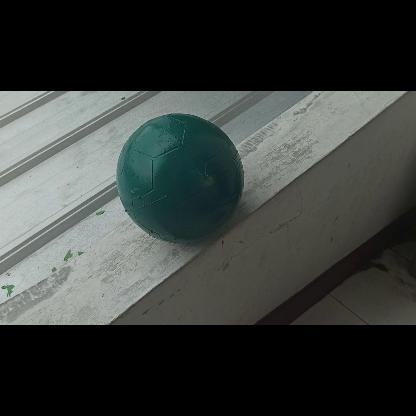green_ball: (115, 115, 241, 241)
